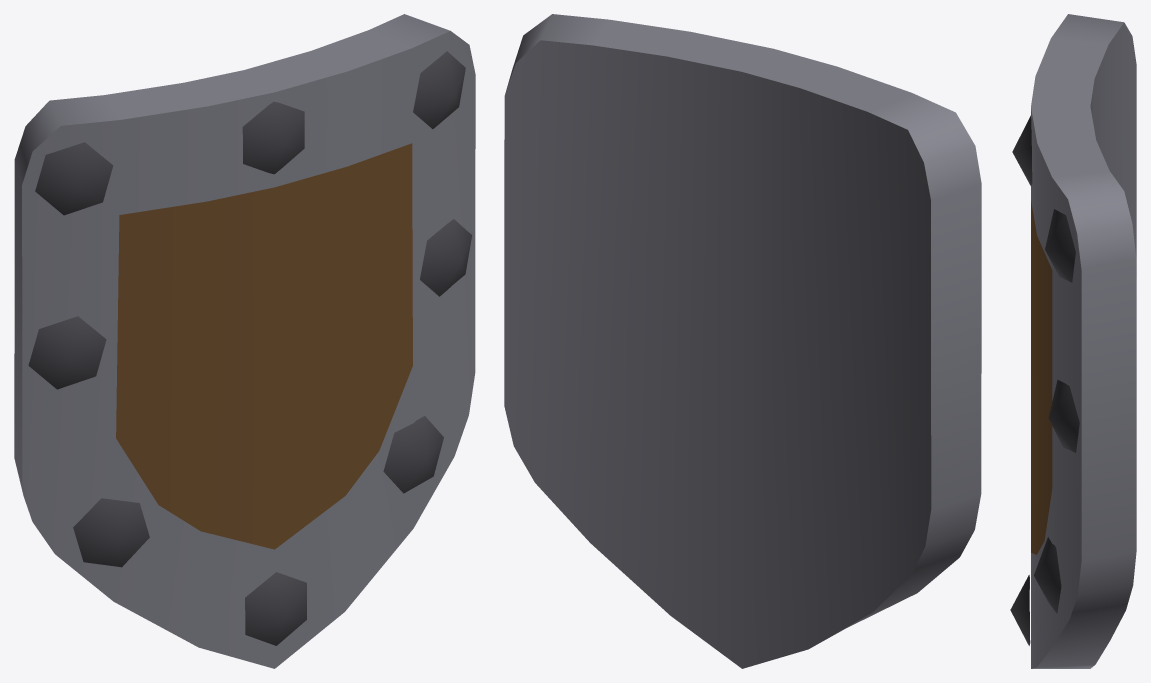
File: wpn_shield_01.fbx
3 renders of one model, left to right at view 1: azimuth 30°, elevation 25°; view 2: azimuth 150°, elevation 25°; view 3: azimuth 270°, elevation 25°, orthographic. The views are drawn at different scales.
Visible parts, largest first — view 1: wpn_shield_01; view 2: wpn_shield_01; view 3: wpn_shield_01.
Boxes of the visible parts, x1,y1,x2,y2 form: wpn_shield_01: (14,14,475,668); wpn_shield_01: (504,14,981,668); wpn_shield_01: (1010,14,1136,668).
Bounding box in the file's own units: 55.23 × 67.11 × 13.66.
